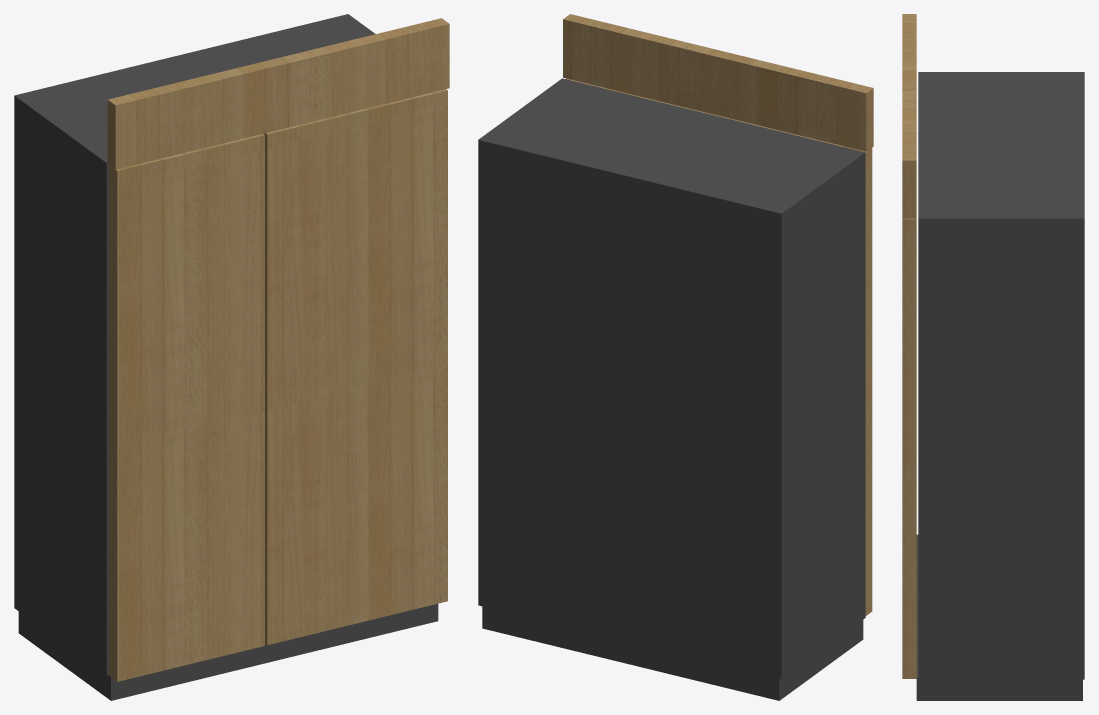
File: demo3.glb
The picture shows the model from 3 angles, left to right: view 1: azimuth 30°, elevation 25°; view 2: azimuth 150°, elevation 25°; view 3: azimuth 270°, elevation 25°; orthographic projection. The views are drawn at different scales.
Parts seen in each view (by area): view 1: Asset3DLoader.sceneRoot; view 2: Asset3DLoader.sceneRoot; view 3: Asset3DLoader.sceneRoot.
Boxes of the visible parts, bbox=[...] form: Asset3DLoader.sceneRoot: bbox=[14, 14, 449, 700]; Asset3DLoader.sceneRoot: bbox=[478, 14, 873, 700]; Asset3DLoader.sceneRoot: bbox=[902, 14, 1084, 700].
Size of the model in its own units: 48.25 by 83.12 by 25.37.
Materials: 2 (1 with a texture image).
